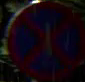No waiting: (6, 2, 84, 79)
